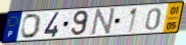0: (143, 7, 164, 31)
1: (127, 6, 141, 34)
4: (43, 11, 60, 39)
9: (70, 9, 90, 38)
N: (89, 7, 118, 37)
O: (20, 12, 43, 40)
